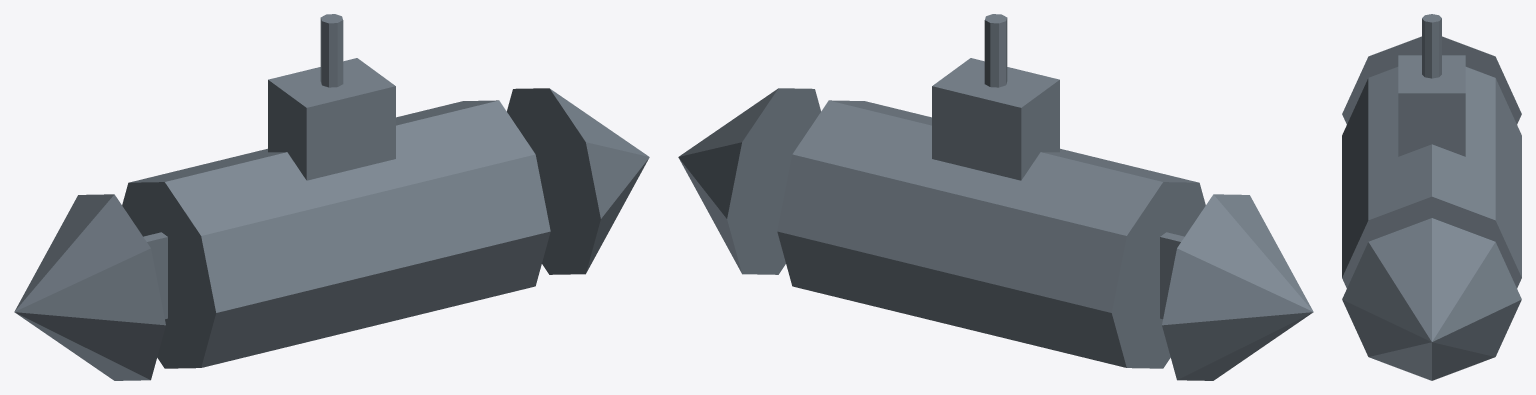
3 renders of one model, left to right at view 1: azimuth 30°, elevation 25°; view 2: azimuth 150°, elevation 25°; view 3: azimuth 270°, elevation 25°, orthographic. The views are drawn at different scales.
Visible parts, largest first — view 1: part0, part2, part1, part3, part4, part5; view 2: part0, part2, part1, part3, part4, part5; view 3: part0, part1, part3, part2, part4.
Boxes of the visible parts, x1,y1,x2,y2 form: part0: (122, 100, 550, 368); part2: (14, 194, 165, 380); part1: (507, 88, 649, 274); part3: (268, 58, 395, 180); part4: (320, 14, 343, 87); part5: (143, 232, 167, 319); part0: (777, 100, 1205, 368); part2: (1162, 194, 1313, 380); part1: (678, 88, 820, 274); part3: (932, 58, 1059, 180); part4: (984, 14, 1007, 87); part5: (1160, 232, 1184, 319); part0: (1342, 67, 1521, 288); part1: (1342, 218, 1521, 380); part3: (1398, 55, 1465, 156); part2: (1342, 36, 1521, 124); part4: (1422, 14, 1441, 78).
Bounding box in the file's own units: 5.7 × 2.65 × 1.6.
